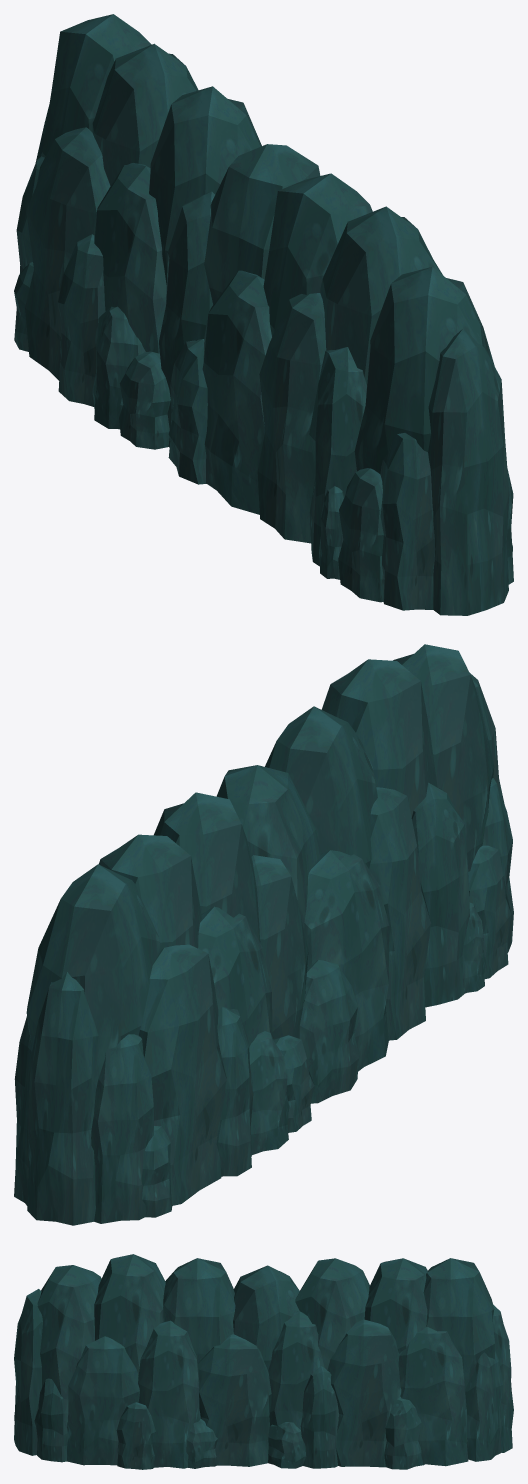
File: ModelWall_Ura_Blue.fbx
The picture shows the model from 3 angles, top to bottom: view 1: azimuth 30°, elevation 25°; view 2: azimuth 150°, elevation 25°; view 3: azimuth 270°, elevation 25°; orthographic projection. The views are drawn at different scales.
Parts seen in each view (by area): view 1: Kabe_Ura_Blue; view 2: Kabe_Ura_Blue; view 3: Kabe_Ura_Blue.
Boxes of the visible parts, x1,y1,x2,y2 form: Kabe_Ura_Blue: (14,14,513,615); Kabe_Ura_Blue: (14,644,513,1225); Kabe_Ura_Blue: (14,1254,513,1469).
Bounding box in the file's own units: 23.23 × 38.93 × 92.04.
1 material, 1 textured.
